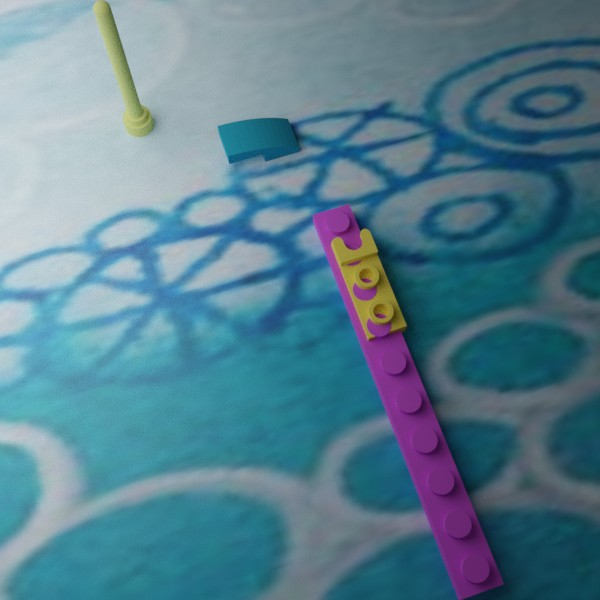lego: (313, 203, 503, 600), (330, 228, 406, 343), (93, 0, 153, 137), (217, 117, 299, 164)
